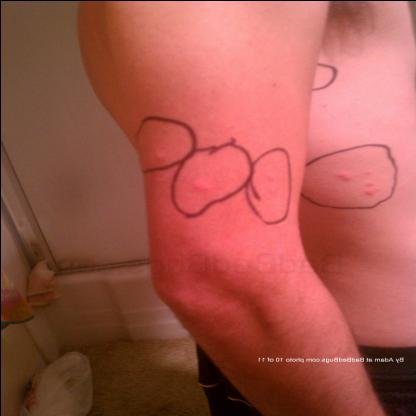Bed Bug: (361, 164, 379, 198), (262, 168, 278, 206), (186, 176, 212, 198), (145, 145, 171, 163), (328, 171, 354, 183)
